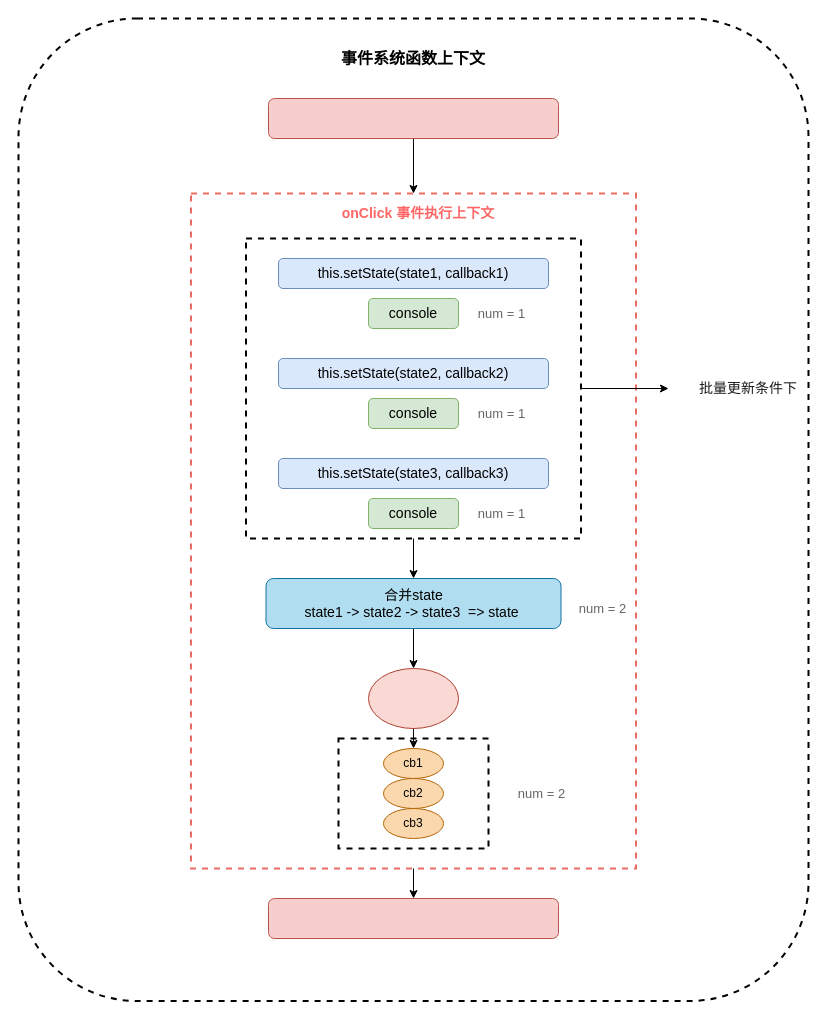
Image size: 826x1019. Some labels were removed from this diagram. Each missing label, with the box of its shape:
isBatchingEventUpdates = false: (268, 898, 558, 938)
isBatchingEventUpdates = true: (268, 98, 558, 138)
render: (368, 668, 458, 728)
